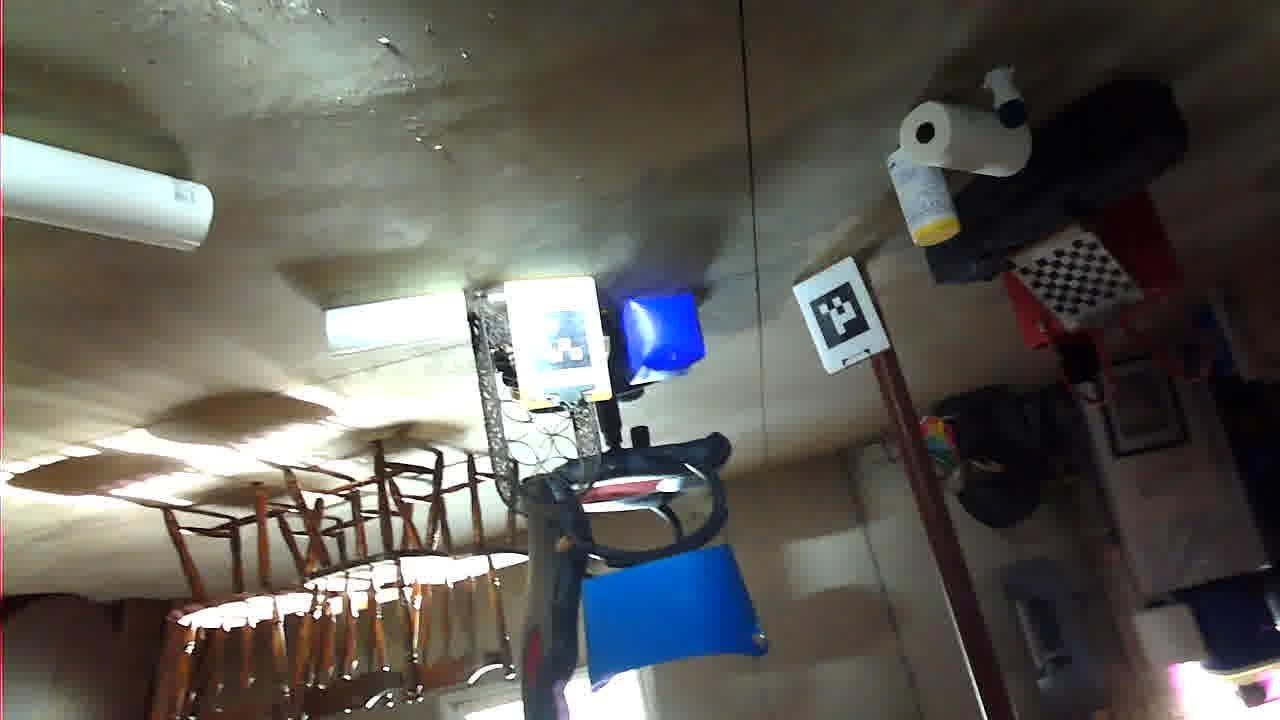coral: (1067, 467, 1276, 592), (814, 373, 956, 427)
